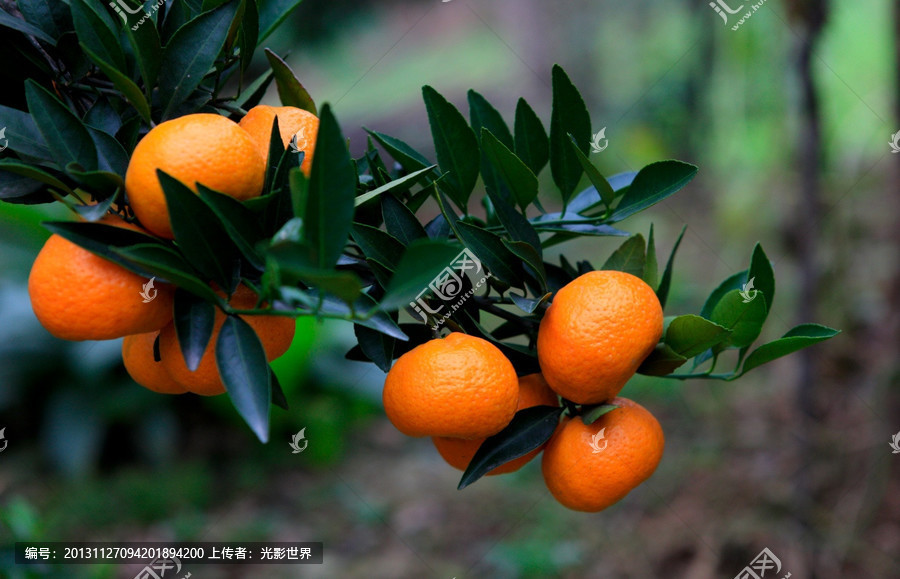orange: (29, 220, 179, 340), (127, 113, 266, 238), (157, 278, 301, 397), (539, 270, 662, 405), (432, 363, 561, 478), (382, 332, 519, 439), (541, 394, 664, 511), (236, 103, 326, 201), (124, 329, 184, 393)
